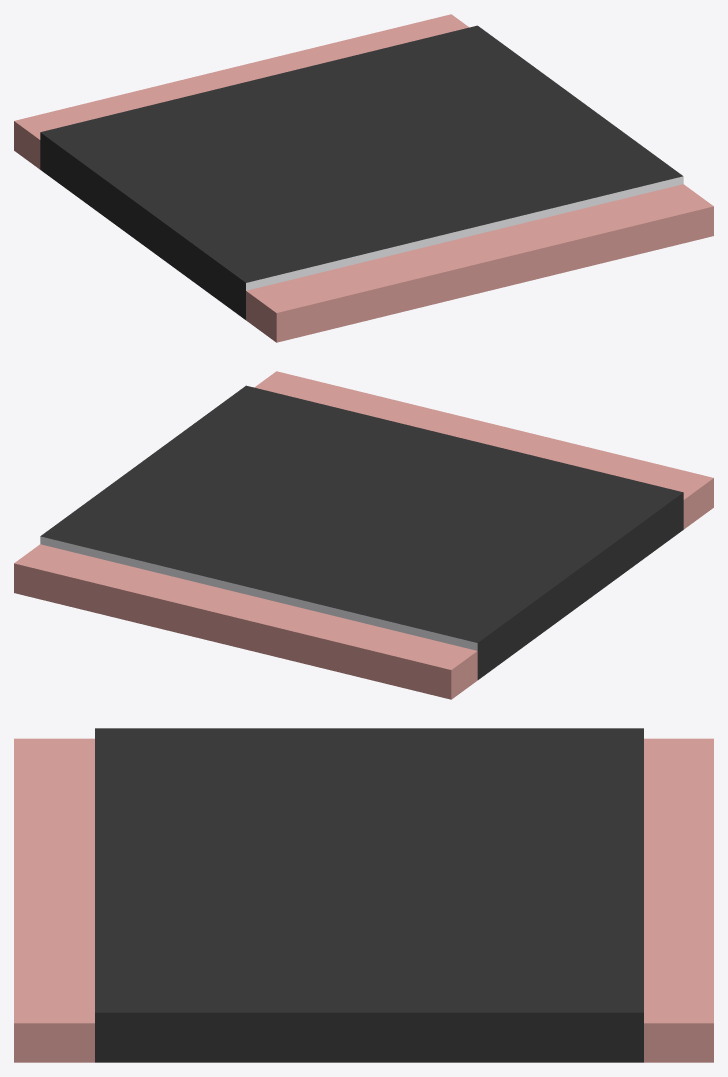
File: BasicConveyorBelt.fbx
3 renders of one model, top to bottom at view 1: azimuth 30°, elevation 25°; view 2: azimuth 150°, elevation 25°; view 3: azimuth 270°, elevation 25°, orthographic. The views are drawn at different scales.
Parts seen in each view (by area): view 1: Cube; view 2: Cube; view 3: Cube.
Boxes of the visible parts, bbox=[...] form: Cube: bbox=[14, 14, 713, 342]; Cube: bbox=[14, 371, 713, 699]; Cube: bbox=[14, 728, 713, 1062].
Size of the model in its own units: 788 by 64.55 by 819.
